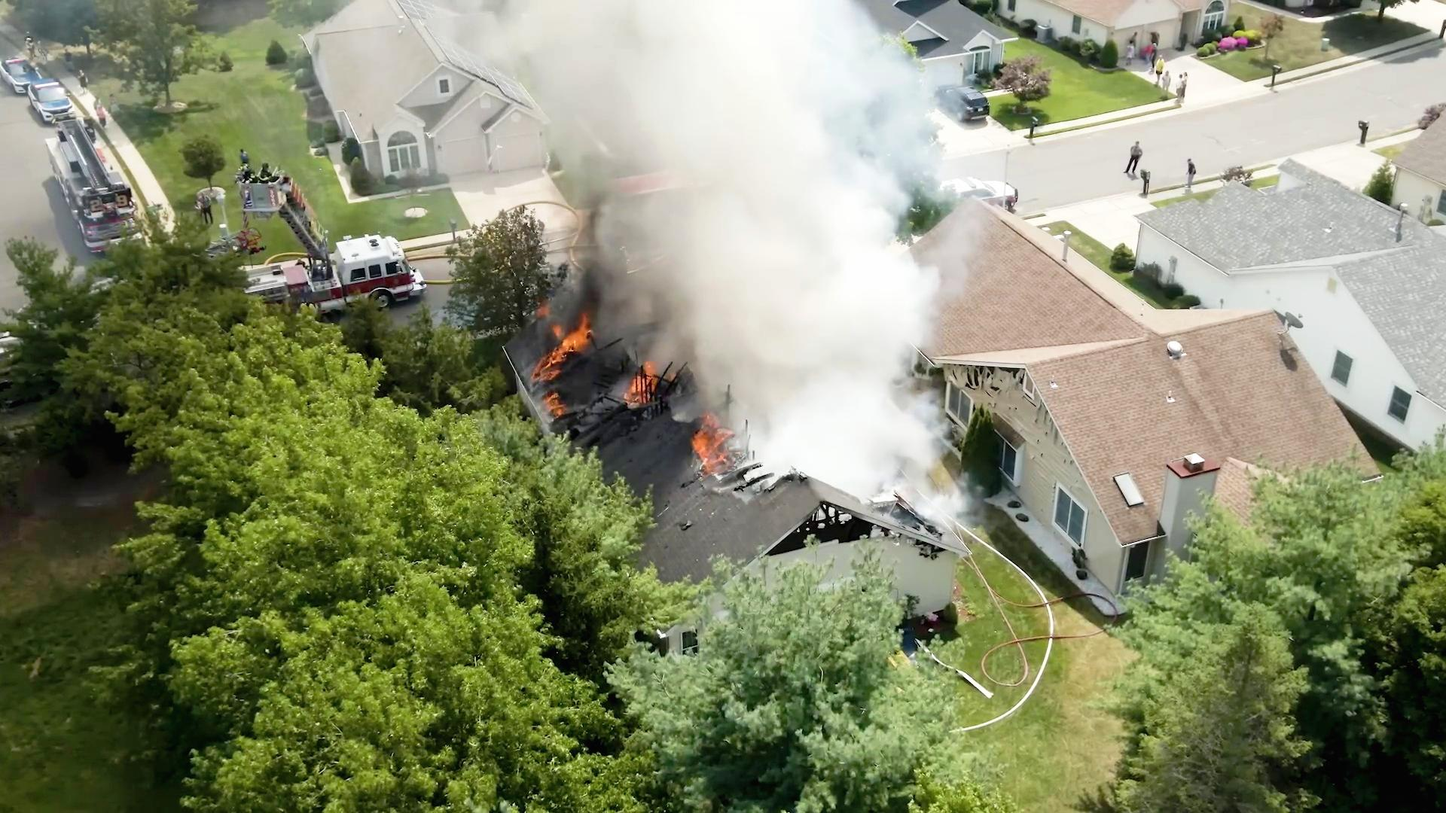smoke: (623, 147, 891, 388), (569, 0, 870, 154)
